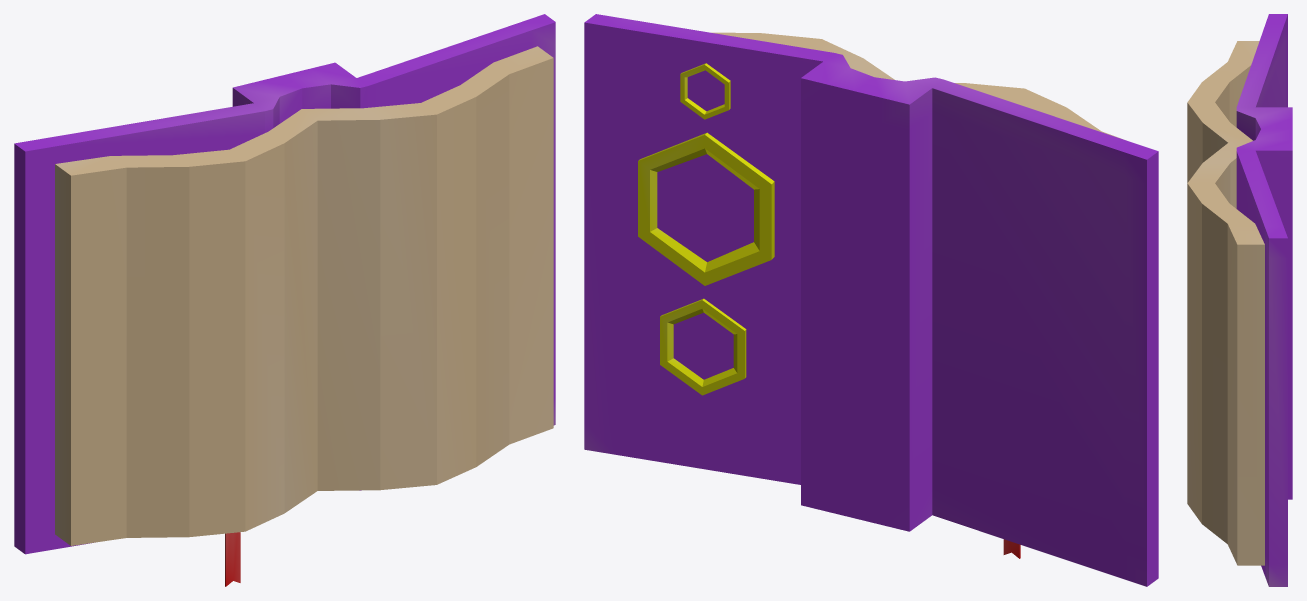
The model's file is MagicBook.fbx.
3 views of the same model, side by side, from view 1: azimuth 30°, elevation 25°; view 2: azimuth 150°, elevation 25°; view 3: azimuth 270°, elevation 25° (orthographic). The views are drawn at different scales.
Parts seen in each view (by area): view 1: SpellBook; view 2: SpellBook; view 3: SpellBook.
Part boxes in pixels (x1,y1,x2,y2): SpellBook: (14, 14, 555, 586); SpellBook: (584, 14, 1158, 586); SpellBook: (1187, 14, 1292, 586).
Size of the model in its own units: 102 by 82.87 by 20.27.
